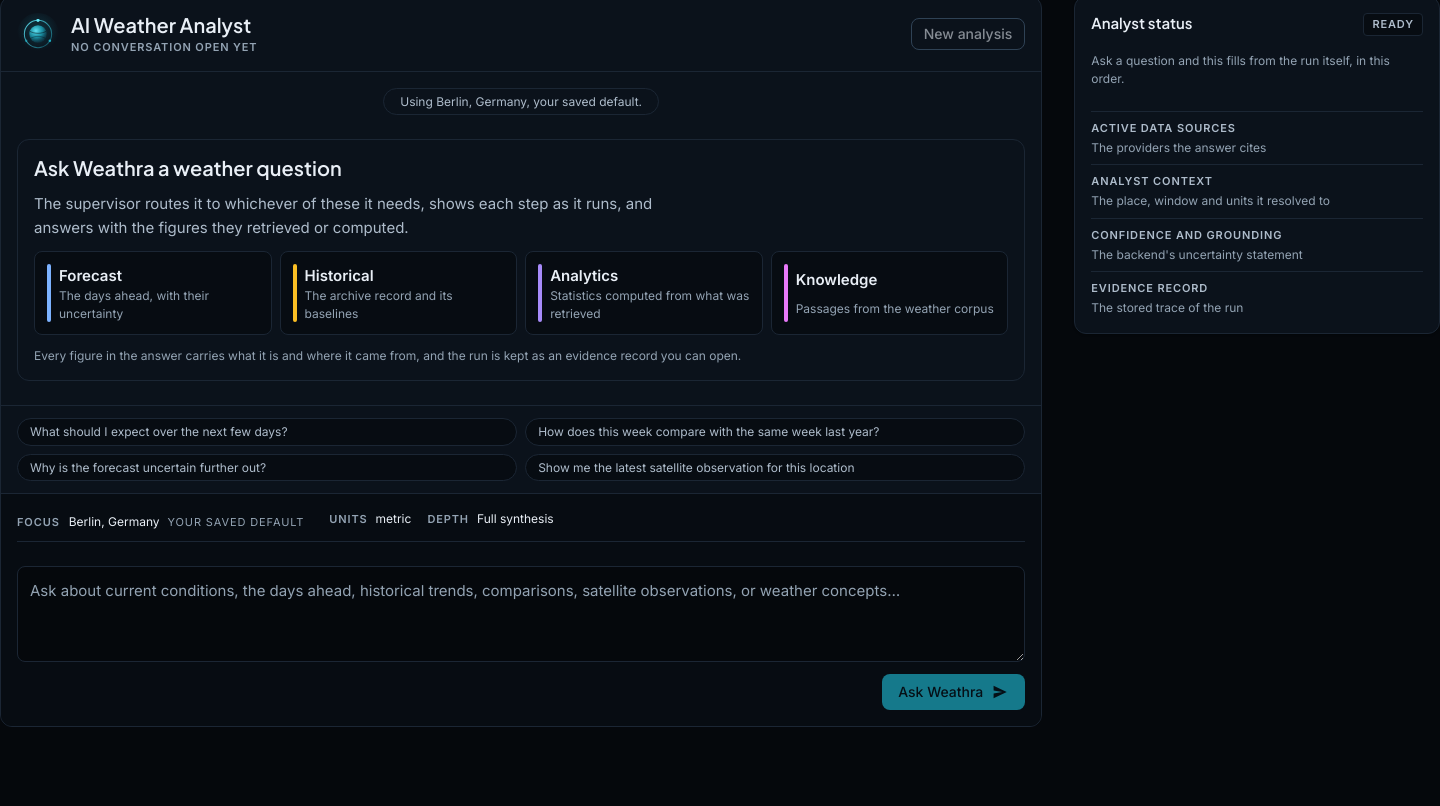
a follow-up › carries the thread the backend opened, so it resolves from the earlier turn
Replace the text in the text box named "Your weather question" with "Compare Berlin and Munich this week." at (521, 614), box left=17, top=566, right=1025, bottom=662
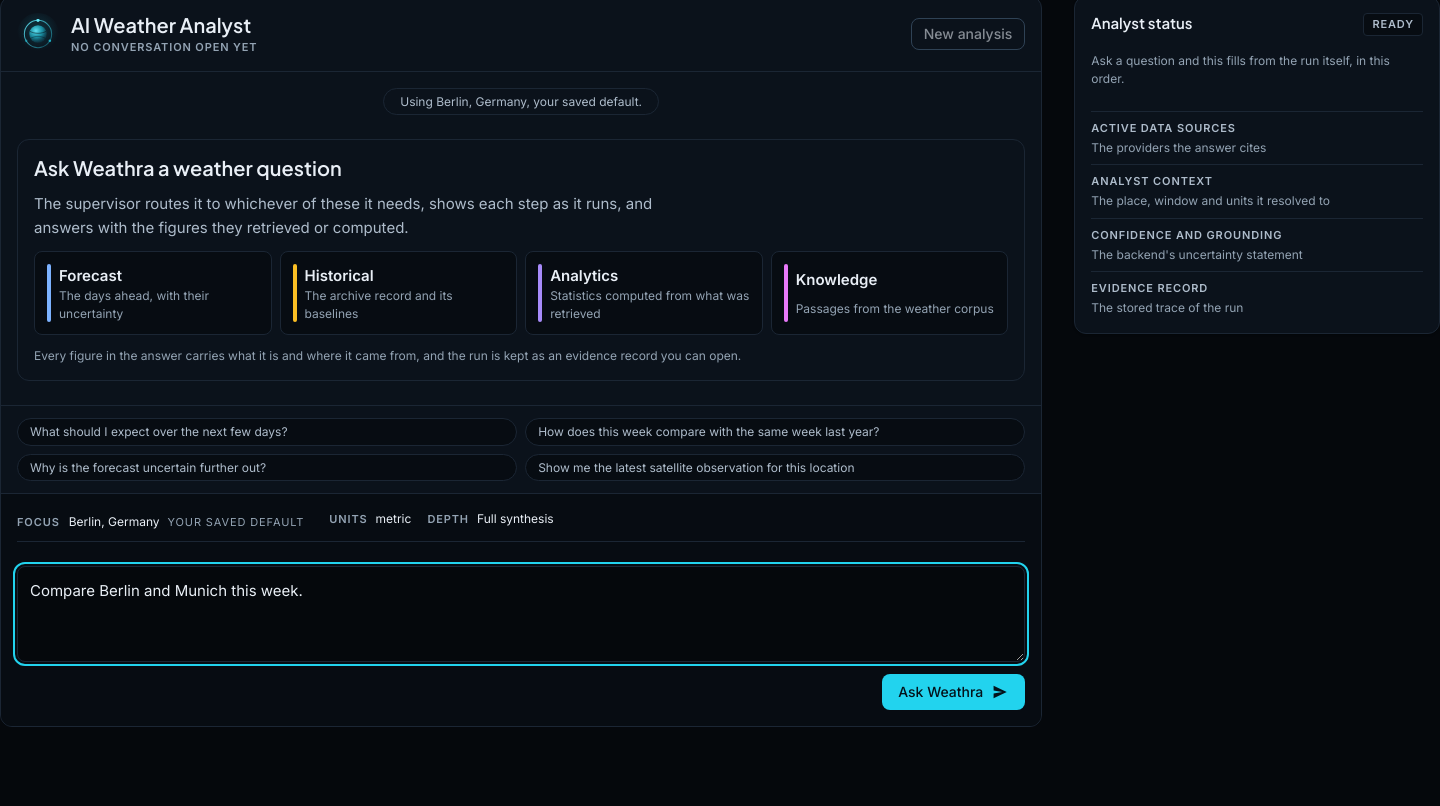
Click the button "Ask Weathra" at (954, 692), box left=882, top=674, right=1025, bottom=710
(page scrolled)
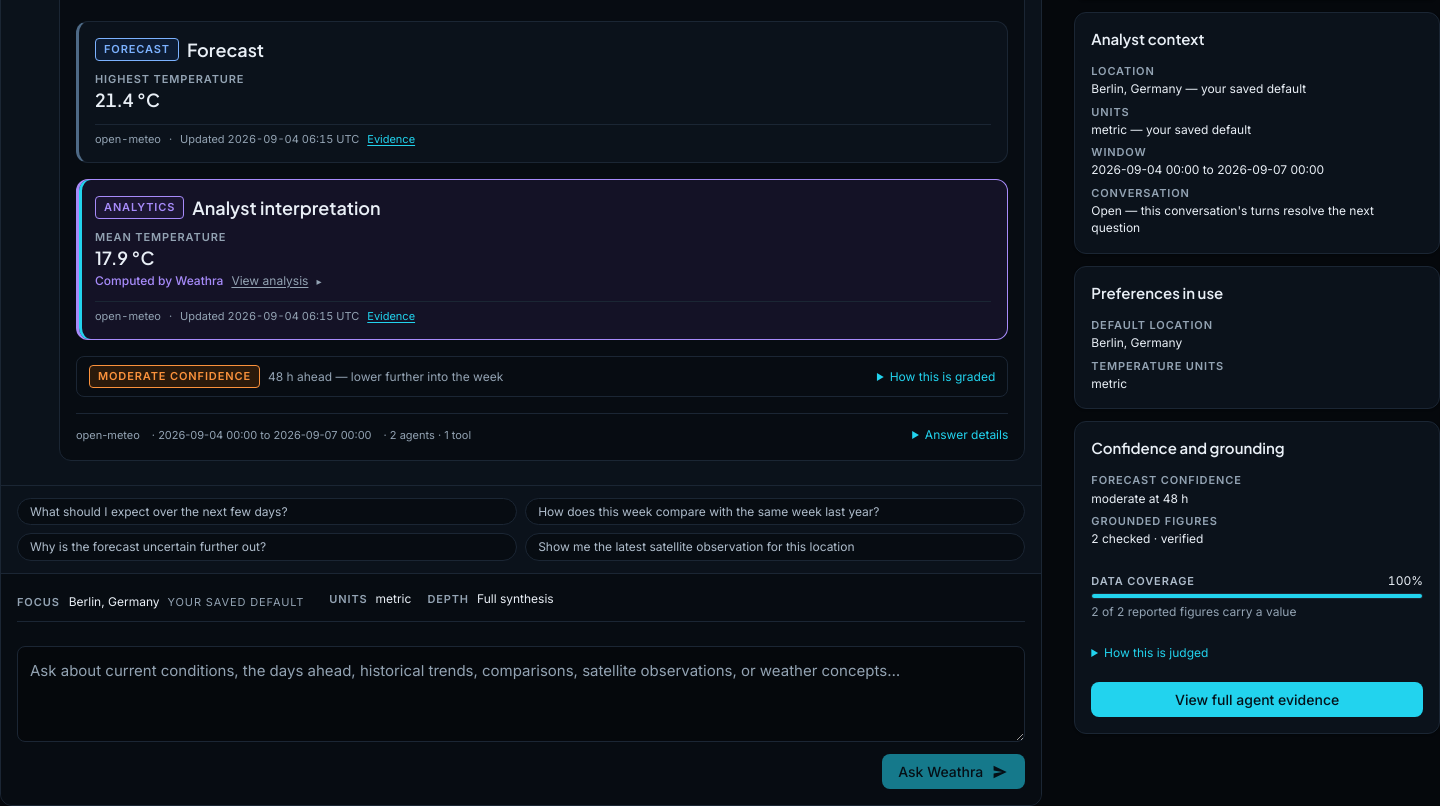
Replace the text in the text box named "Your weather question" with "Which day is warmer?" at (521, 694), box left=17, top=646, right=1025, bottom=742
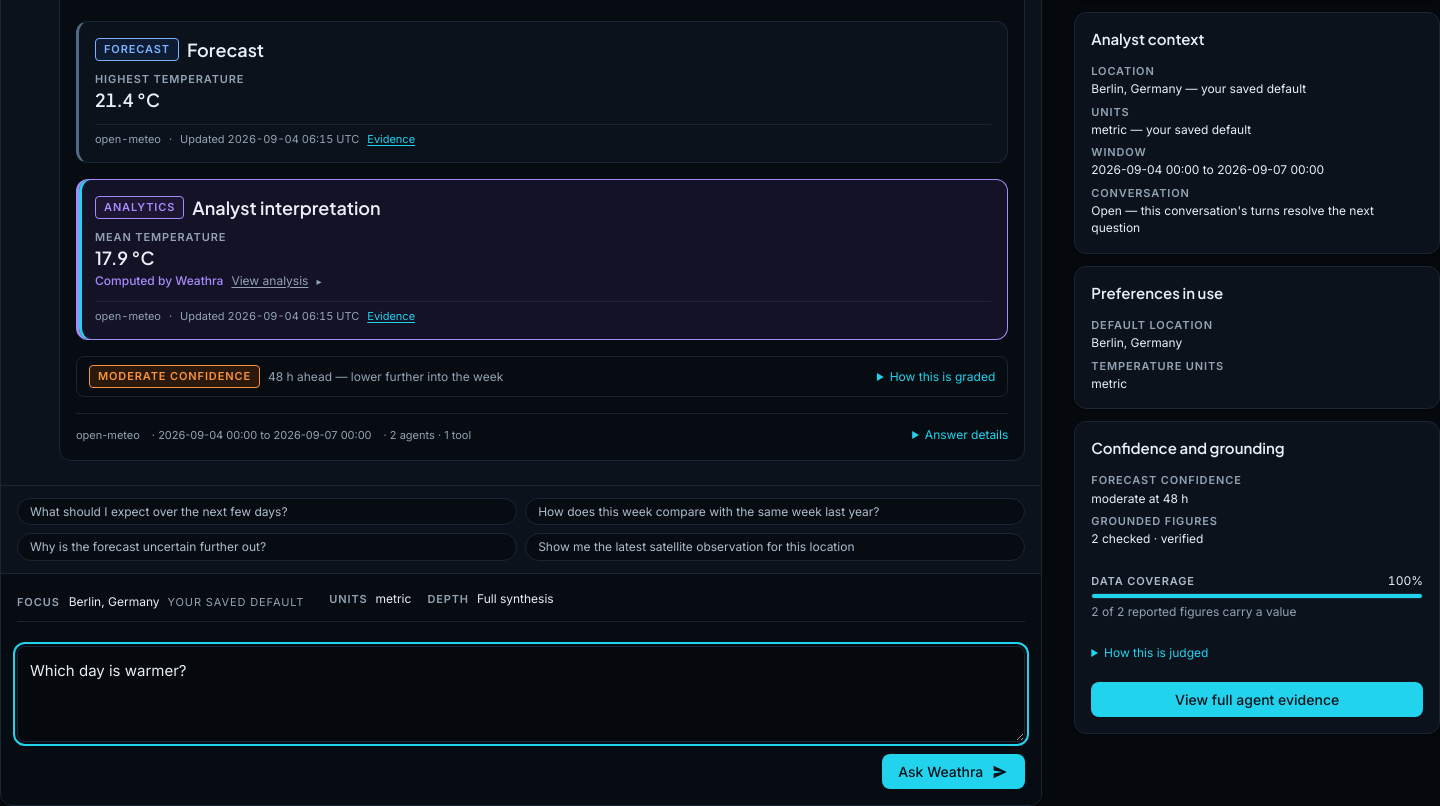
Click the button "Ask Weathra" at (954, 772), box left=882, top=754, right=1025, bottom=789
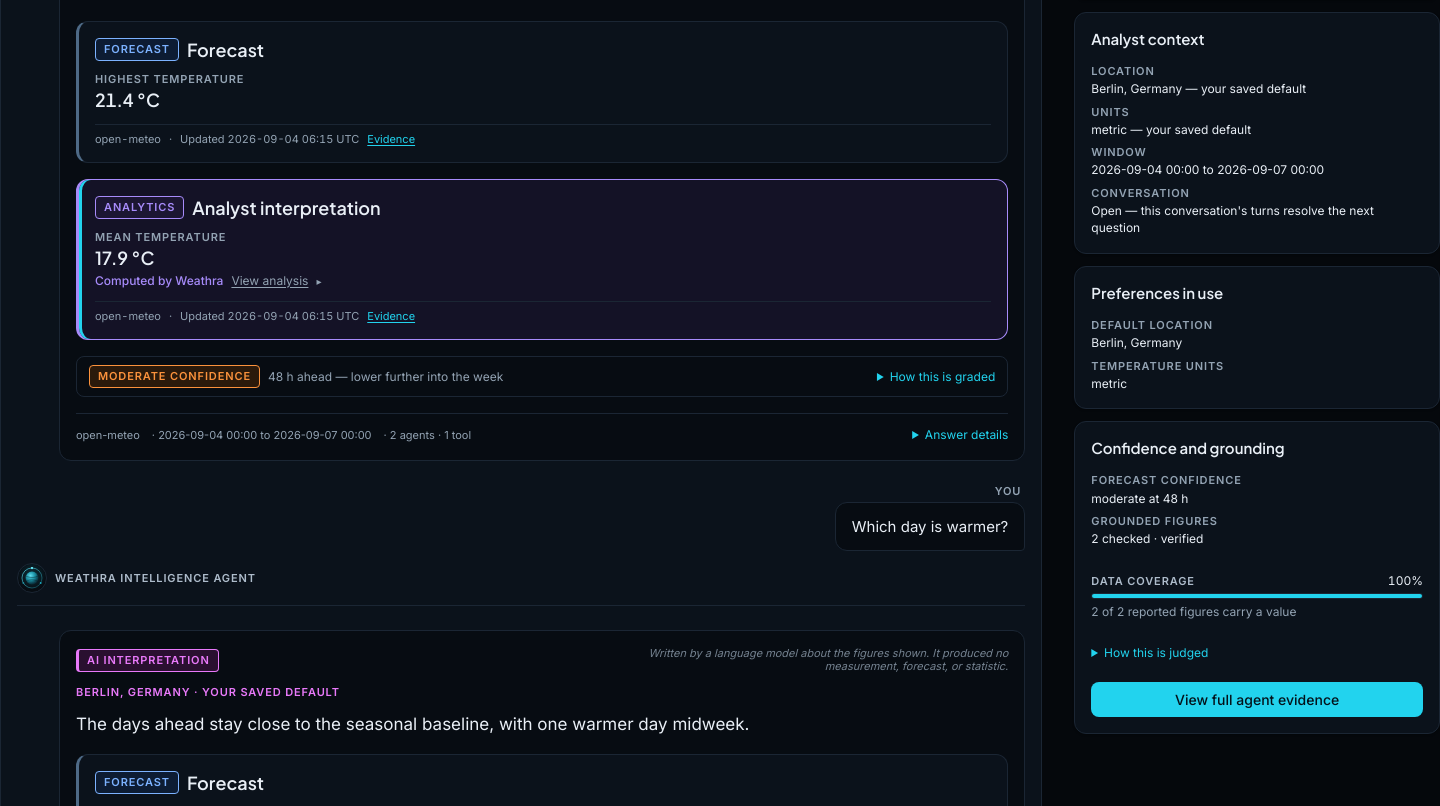
Now the text "Which day is warmer?" is shown, box left=852, top=515, right=1008, bottom=538
